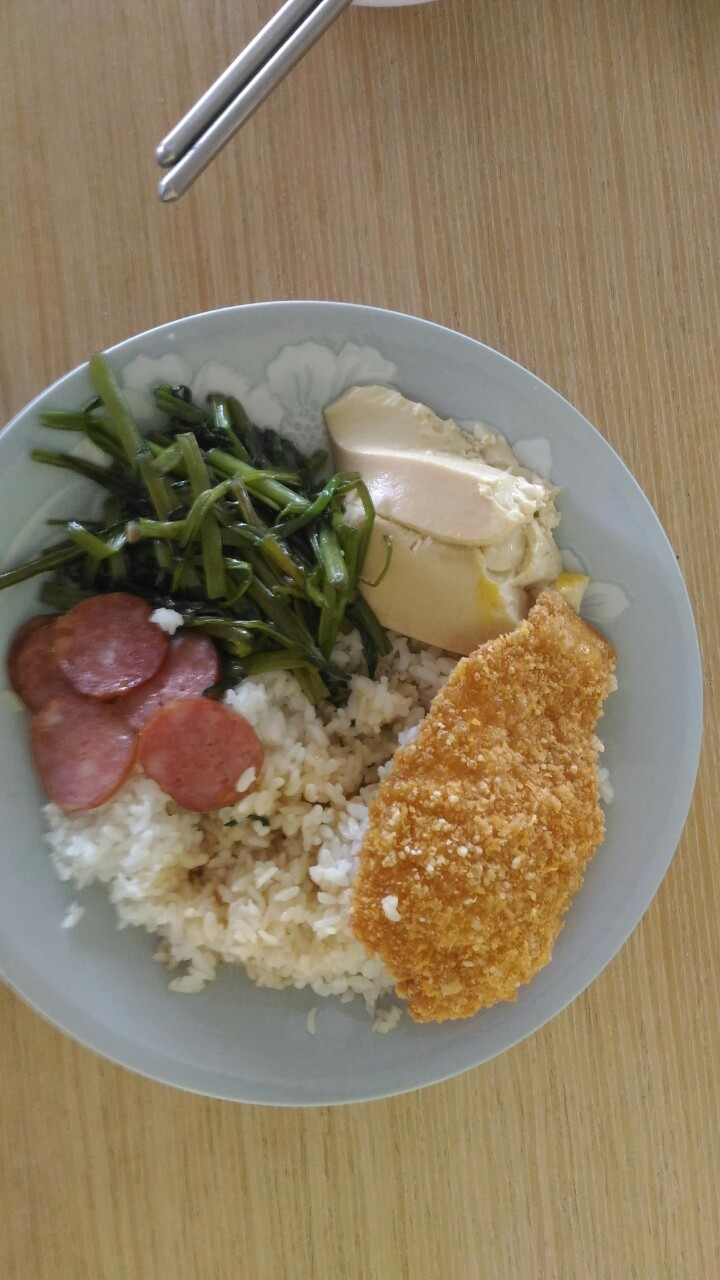chinese_sausage: (9, 596, 265, 816)
rice: (117, 817, 352, 960)
water_spinach: (66, 409, 320, 594)
